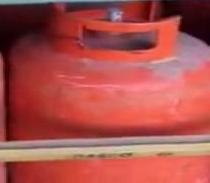cylinder: (1, 0, 210, 183)
